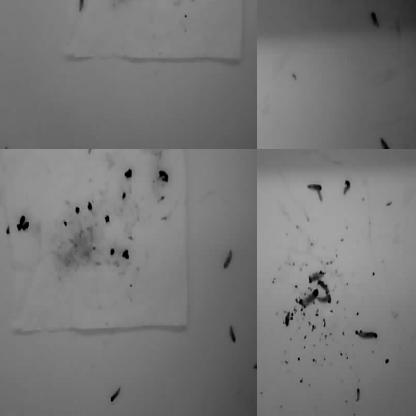PtecticusTenebrifer: (297, 288, 318, 306), (222, 248, 235, 269), (358, 330, 380, 341), (110, 388, 122, 404), (370, 9, 380, 28), (228, 324, 237, 344), (307, 181, 323, 191), (343, 180, 351, 197), (380, 138, 392, 149), (396, 149, 414, 156), (309, 0, 326, 6), (27, 0, 43, 6), (0, 186, 4, 210), (378, 149, 394, 155), (257, 18, 265, 28), (257, 40, 261, 59), (217, 0, 232, 5), (251, 361, 257, 373), (79, 0, 84, 14), (111, 149, 124, 153), (0, 144, 10, 149), (257, 0, 265, 6), (349, 0, 361, 4), (257, 140, 261, 149)
